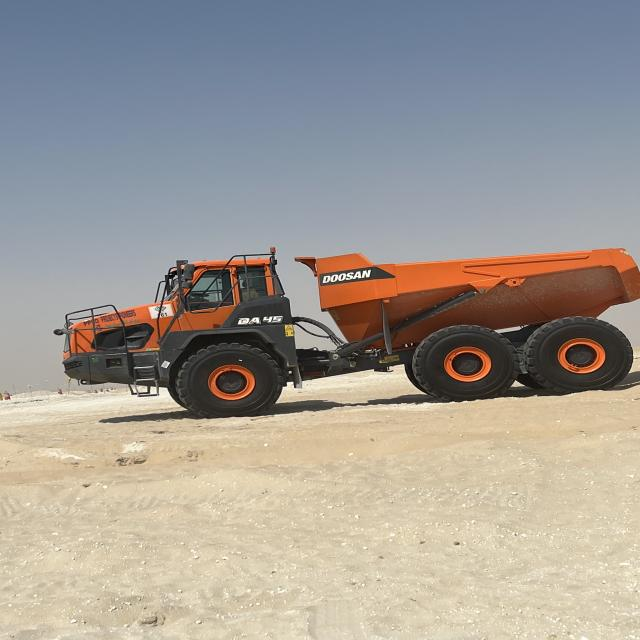dump_truck: (51, 241, 638, 426)
